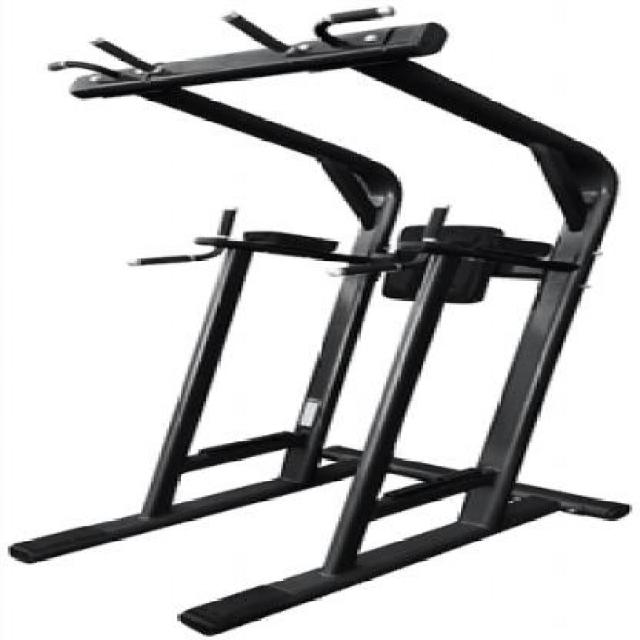chinning dipping: (20, 8, 628, 630)
